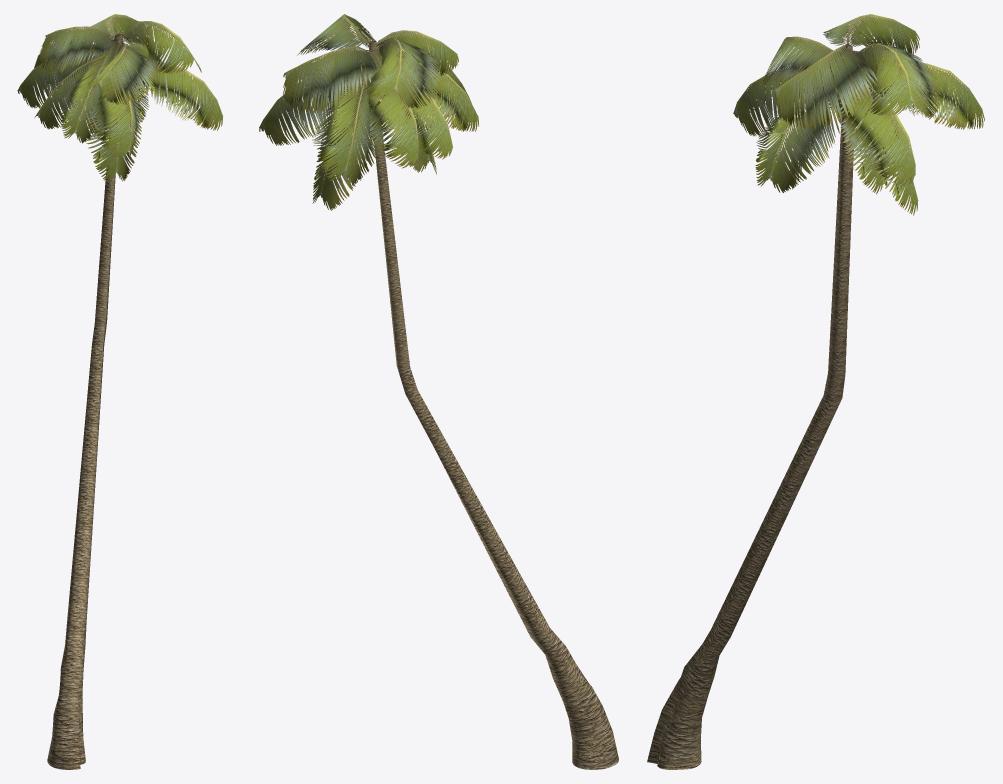
Rendered from Type_7_Tree_6.fbx.
3 views of the same model, side by side, from view 1: azimuth 30°, elevation 25°; view 2: azimuth 150°, elevation 25°; view 3: azimuth 270°, elevation 25° (orthographic). The views are drawn at different scales.
Visible parts, largest first — view 1: Leaf, Trunk; view 2: Leaf, Trunk; view 3: Leaf, Trunk.
Boxes of the visible parts, bbox=[...] form: Leaf: bbox=[17, 14, 223, 182]; Trunk: bbox=[47, 33, 122, 769]; Leaf: bbox=[259, 14, 479, 210]; Trunk: bbox=[368, 40, 618, 769]; Leaf: bbox=[733, 14, 984, 215]; Trunk: bbox=[647, 44, 854, 769].
Size of the model in its own units: 1059 by 3103 by 1200.
